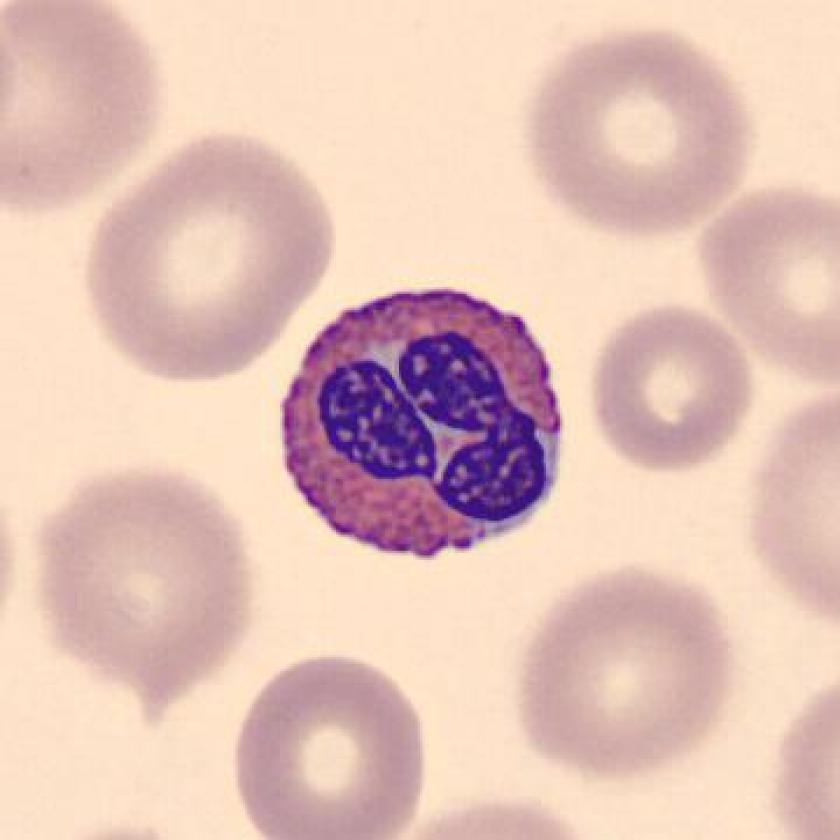eosinophil: (269, 279, 573, 575)
